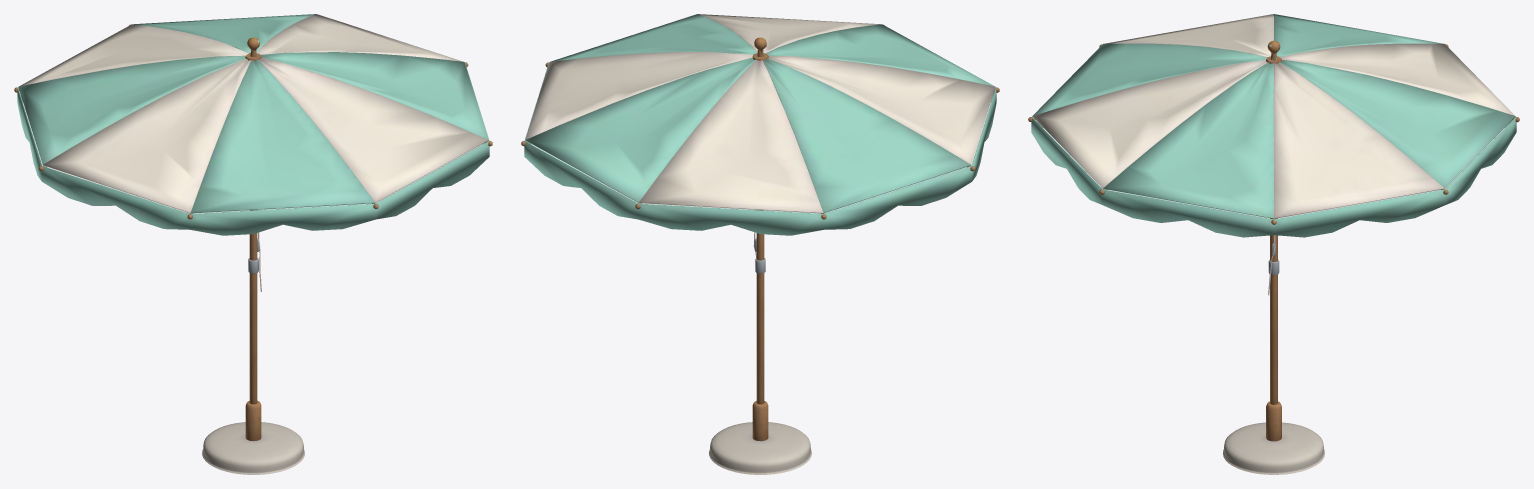
The model's file is patio-umbrella.glb.
The picture shows the model from 3 angles, left to right: view 1: azimuth 30°, elevation 25°; view 2: azimuth 150°, elevation 25°; view 3: azimuth 270°, elevation 25°; orthographic projection.
Parts seen in each view (by area): view 1: patio-umbrella_canopy, patio-umbrella_body; view 2: patio-umbrella_canopy, patio-umbrella_body; view 3: patio-umbrella_canopy, patio-umbrella_body.
Boxes of the visible parts, box(x1,y1,x2,y2) form: patio-umbrella_canopy: box(14, 14, 492, 235); patio-umbrella_body: box(202, 56, 304, 474); patio-umbrella_canopy: box(521, 14, 999, 235); patio-umbrella_body: box(709, 57, 811, 474); patio-umbrella_canopy: box(1028, 14, 1519, 237); patio-umbrella_body: box(1223, 218, 1324, 474).
Size of the model in its own units: 2.81 by 2.61 by 2.81.
2 materials, 2 textured.
